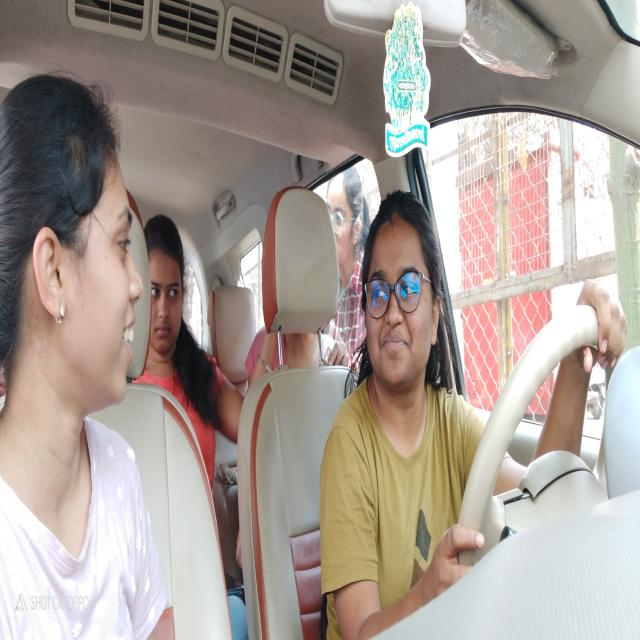LeftRight: (356, 180, 445, 440)
person: (0, 68, 143, 434), (147, 204, 185, 359)
